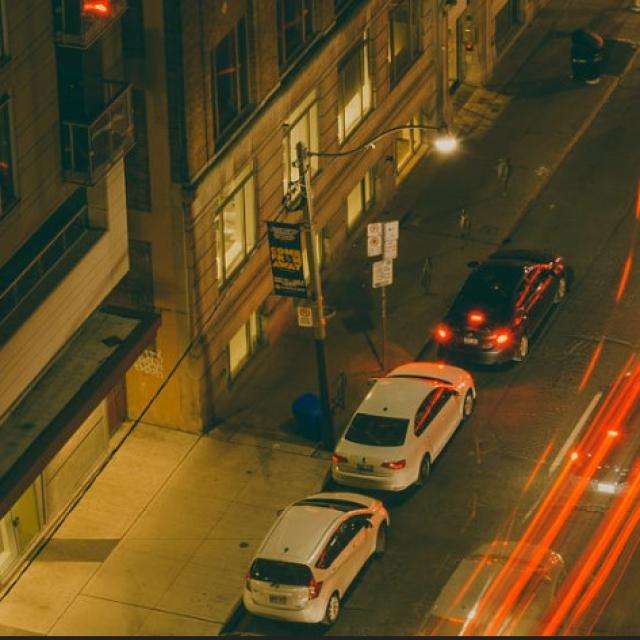car: (242, 490, 394, 626), (330, 362, 478, 494), (434, 249, 568, 366)
